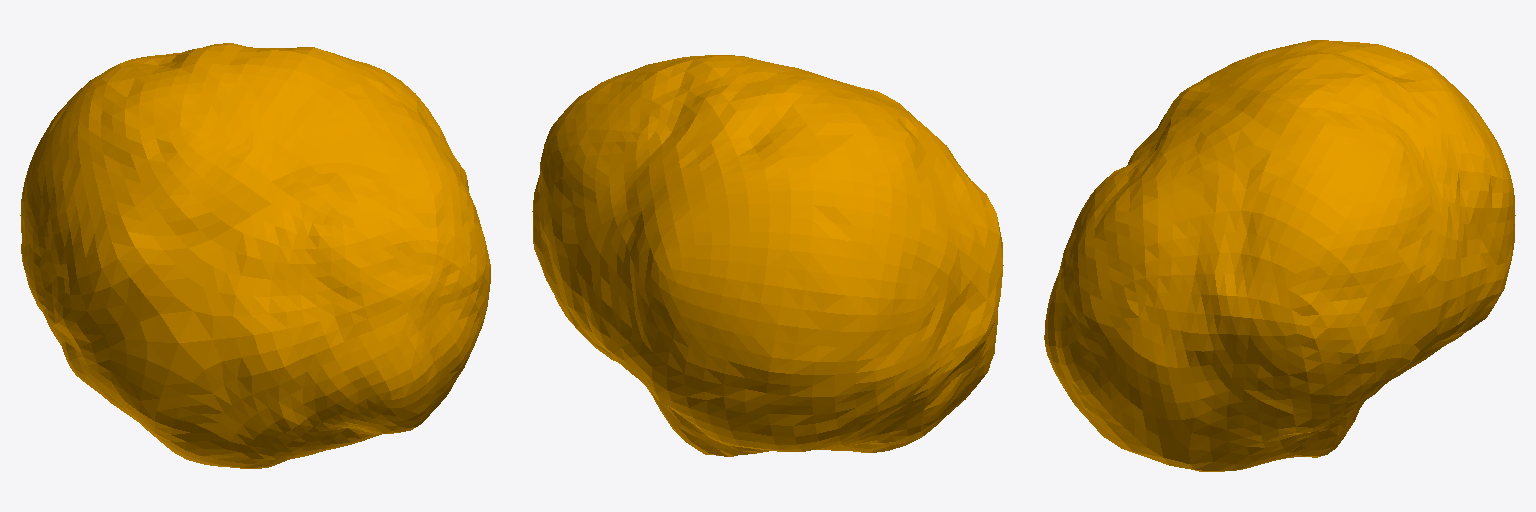
The robot description file, URDF, robot "rock":
<?xml version="1.0" ?>
<robot name="rock">
  <link name="rock">
    <inertial>
      <mass value="0.340"/>
      <origin rpy="0 0 0" xyz="0 0 0"/>
      <inertia ixx="0.000340" ixy="0" ixz="0" iyy="0.000340" iyz="0" izz="0.000340"/>
    </inertial>
    <collision name="rock_collision">
      <origin rpy="0 0 0" xyz="0 0 0"/>
      <geometry>
        <mesh filename="package://rocks/visual/99.dae" scale="1 1 1"/>
      </geometry>
    </collision>
    <visual name="rock_visual">
      <origin rpy="0 0 0" xyz="0 0 0"/>
      <geometry>
        <mesh filename="package://rocks/visual/99.dae" scale="1 1 1"/>
      </geometry>
    </visual>
  </link>
</robot>

--- Facts derived from the render (not from the file) ---
3 views of the same robot in one strip: view 1: azimuth 30°, elevation 25°; view 2: azimuth 150°, elevation 25°; view 3: azimuth 270°, elevation 25° (orthographic).
Robot: rock — 1 links, 0 joints (none); root link rock; default pose: every joint at zero.
Visible links, largest first — view 1: rock; view 2: rock; view 3: rock.
Boxes of the visible links, <box> form: rock: <box>20,43,490,468</box>; rock: <box>532,55,1003,456</box>; rock: <box>1044,40,1515,471</box>.
Bounding box of the posed robot: 0.0911 × 0.0912 × 0.0794 m (x, y, z).
1 mesh visuals loaded from 1 distinct referenced files (1 Collada DAE).